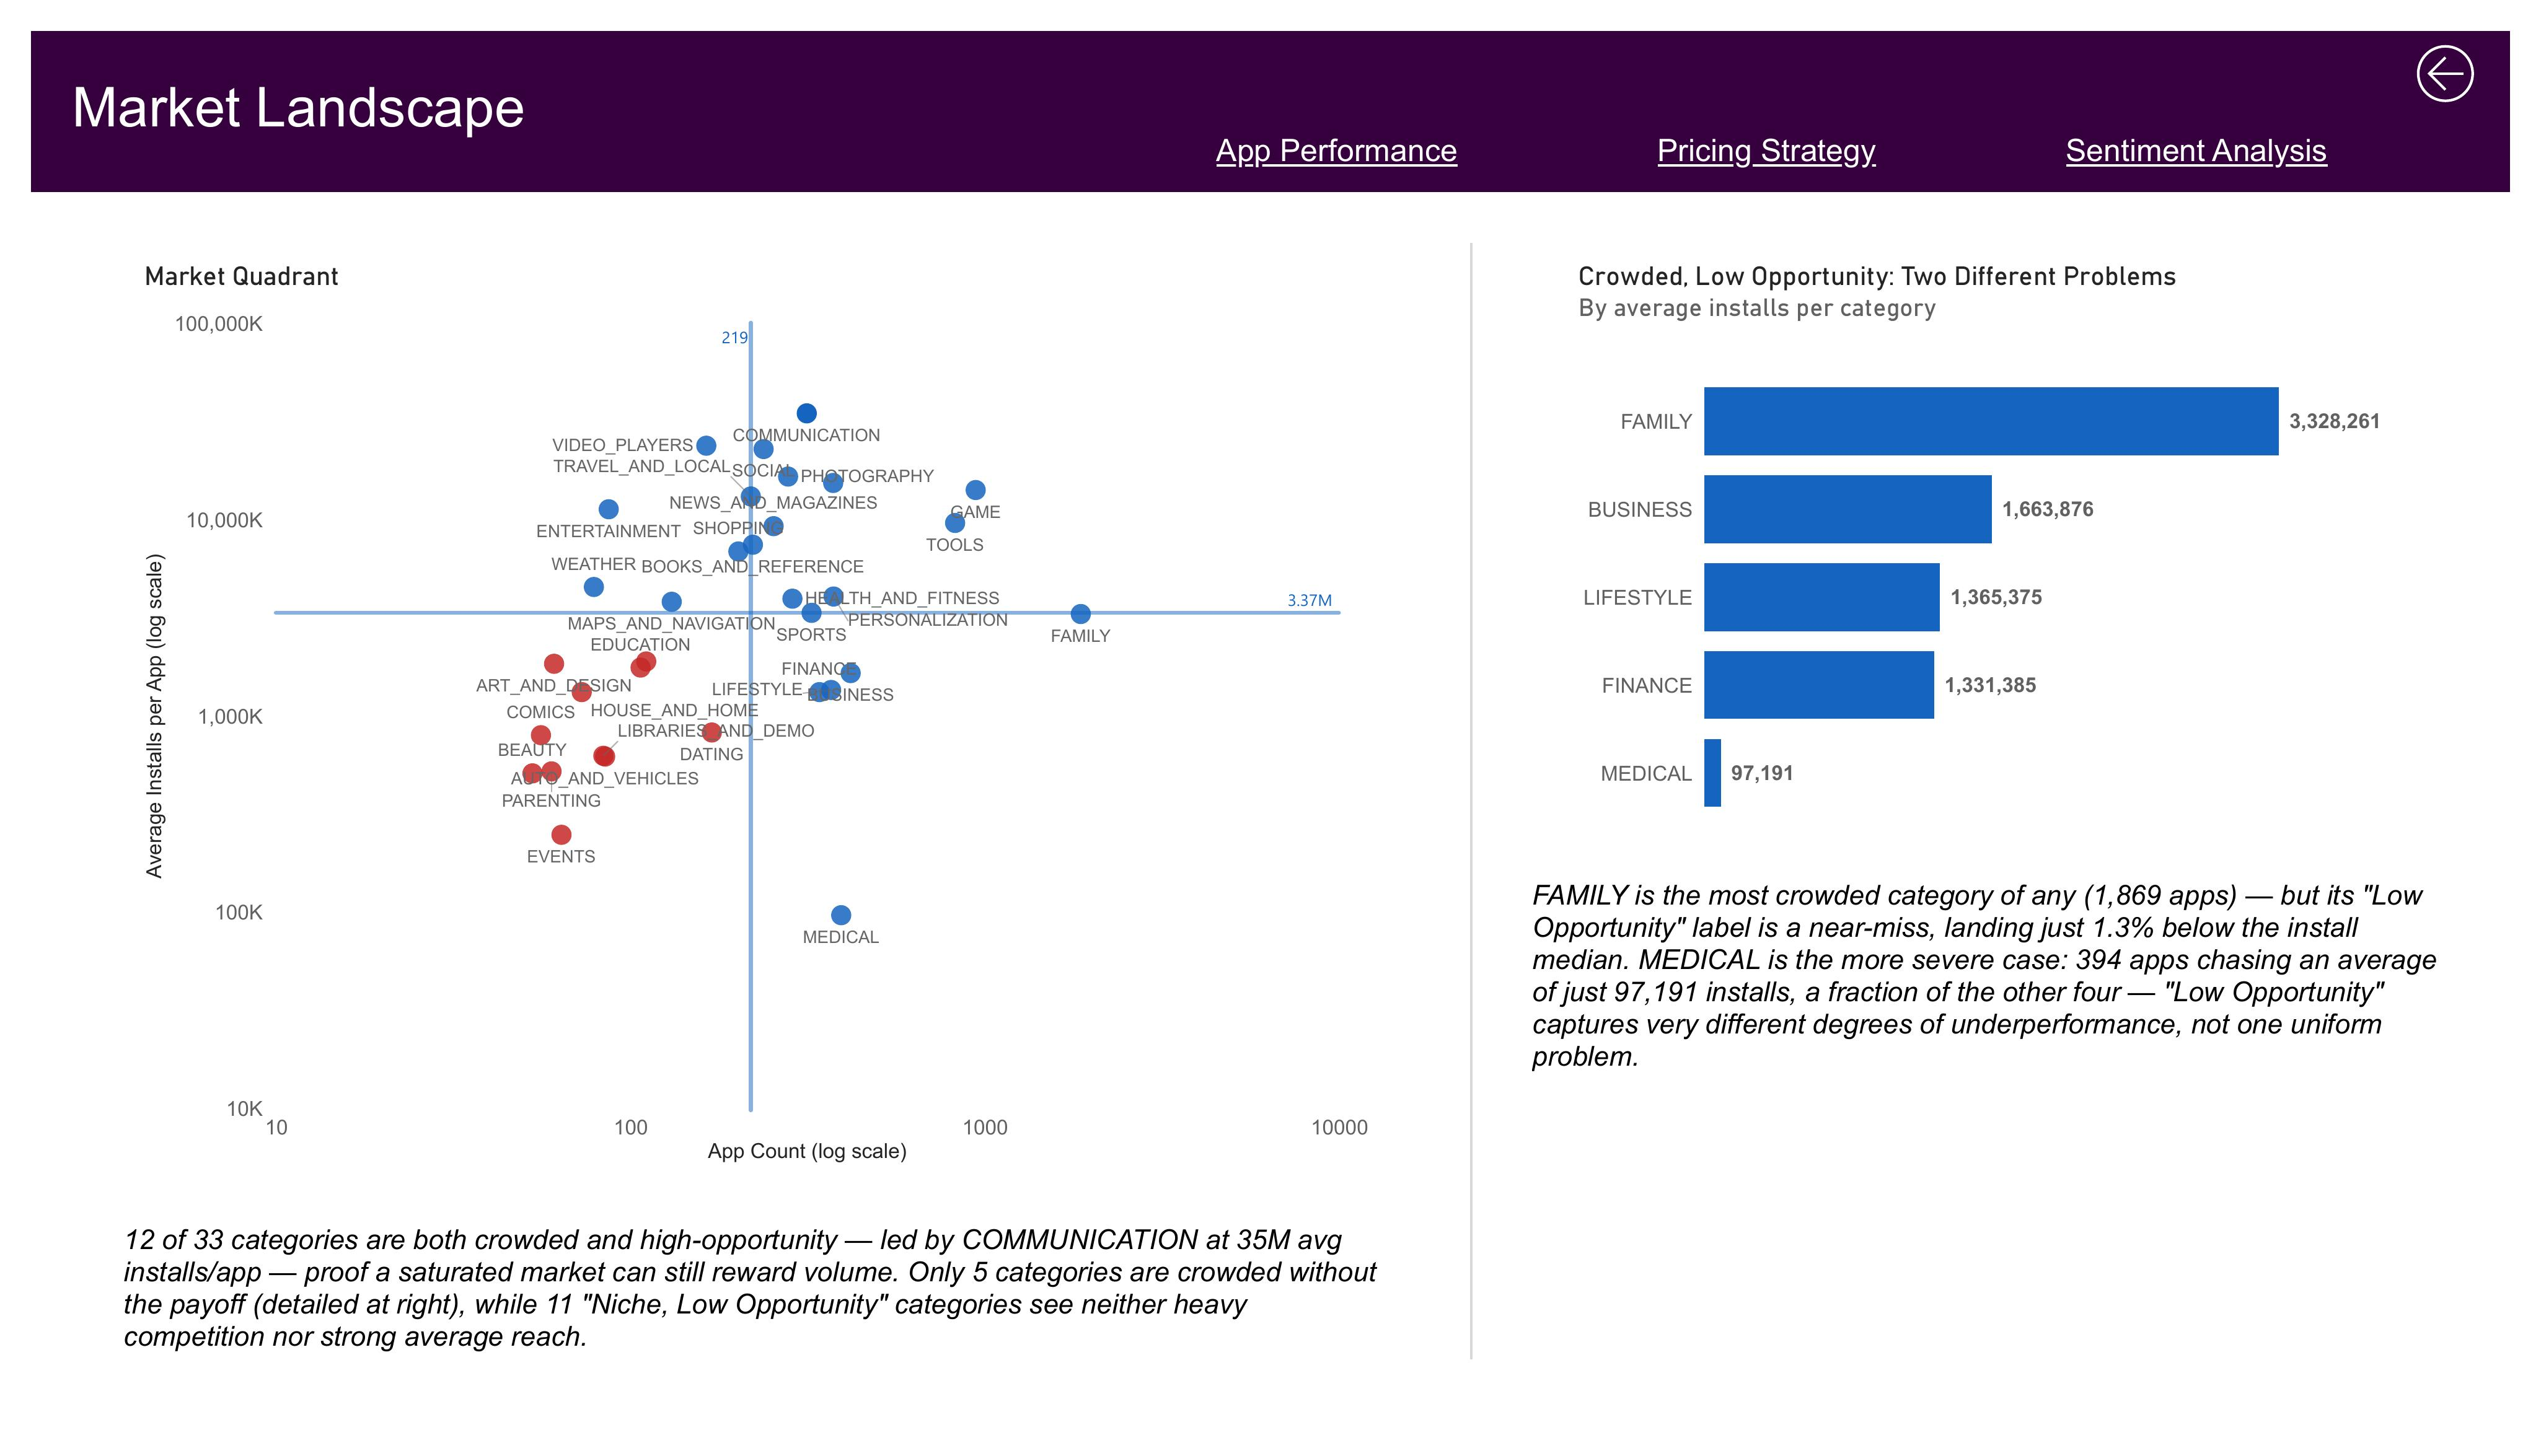

The dashboard page shown, as its layout file describes it:
{"tool":"powerbi","page":{"name":"Market_Landscape","canvas":[1920,1080],"ordinal":4},"visuals":[{"type":"shape","box":[0,0,1920.2,125.2],"z":0},{"type":"textbox","box":[31.7,35.1,531,58.4],"z":1000},{"type":"actionButton","box":[1820,0,100,65],"z":2000},{"type":"shape","box":[845.5,60,332.7,65.5],"z":3000},{"type":"shape","box":[1178.2,60,332.7,65.5],"z":4000},{"type":"shape","box":[1510.9,60,332.7,65.5],"z":5000},{"type":"scatterChart","title":"Market Quadrant","fields":{"Category":["fct_market_landscape.category"],"X":["Sum(fct_market_landscape.app_count)"],"Y":["Avg(fct_market_landscape.avg_installs_per_app)"]},"box":[71.8,163.6,980,729.2],"z":6000},{"type":"textbox","box":[71.8,925.1,980,139],"z":7000},{"type":"barChart","title":"Crowded, Low Opportunity: Two Different Problems","fields":{"Category":["fct_market_landscape.category"],"Y":["Avg(fct_market_landscape.avg_installs_per_app)"]},"box":[1183.5,163.8,653.4,481.9],"z":8000},{"type":"textbox","box":[1162.8,657.6,716.5,158.8],"z":9000},{"type":"shape","box":[1108.7,163.6,13.4,864.9],"z":10000}]}

Visuals, with their boxes on the page's 1920x1080 design canvas (x1, y1, x2, y2). These are canvas units, not pixel positions in the 2541x1456 screenshot, which may show the page scaled, cropped or inside an application window:
shape: [x1=0, y1=0, x2=1920, y2=125]
textbox: [x1=32, y1=35, x2=563, y2=94]
actionButton: [x1=1820, y1=0, x2=1920, y2=65]
shape: [x1=846, y1=60, x2=1178, y2=126]
shape: [x1=1178, y1=60, x2=1511, y2=126]
shape: [x1=1511, y1=60, x2=1844, y2=126]
"Market Quadrant" scatterChart: [x1=72, y1=164, x2=1052, y2=893]
textbox: [x1=72, y1=925, x2=1052, y2=1064]
"Crowded, Low Opportunity: Two Different Problems" barChart: [x1=1184, y1=164, x2=1837, y2=646]
textbox: [x1=1163, y1=658, x2=1879, y2=816]
shape: [x1=1109, y1=164, x2=1122, y2=1028]
